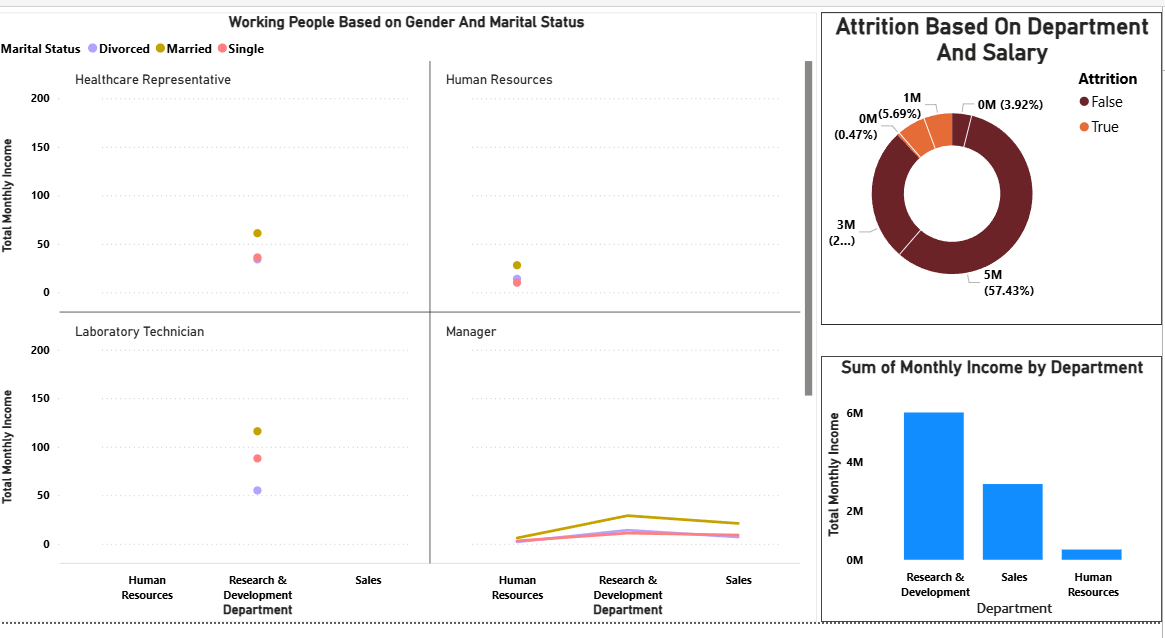

This screenshot's page, from the dashboard's own definition file:
{"tool":"powerbi","page":{"name":"Page 1","canvas":[1280,720],"ordinal":0},"visuals":[{"type":"donutChart","title":"Attrition Based On Department And Salary","fields":{"Category":["Employee_Data.Attrition"],"Series":["Employee_Data.Department"],"Y":["Sum(Employee_Data.MonthlyIncome)"]},"box":[905.7,50.8,374.6,343.1],"z":0},{"type":"lineClusteredColumnComboChart","title":"Sum of Monthly Income by Department","fields":{"Category":["Employee_Data.Department"],"Y":["Sum(Employee_Data.MonthlyIncome)"]},"box":[905.7,428.1,374.6,292.3],"z":1},{"type":"lineChart","title":"Working People Based on Gender And Marital Status","fields":{"Category":["Employee_Data.Department"],"Series":["Employee_Data.Marital Status"],"Rows":["Employee_Data.JobRole"],"Y":["CountNonNull(Employee_Data.MonthlyIncome)"]},"box":[0,50.8,901.5,669.6],"z":2}]}

Visuals, with their boxes in screenshot pixels (x1, y1, x2, y2), scaled from the page's 1280x720 canvas onto the 1165x638 screenshot:
"Attrition Based On Department And Salary" donutChart: (824,45,1164,349)
"Sum of Monthly Income by Department" lineClusteredColumnComboChart: (824,379,1164,637)
"Working People Based on Gender And Marital Status" lineChart: (0,45,821,637)
